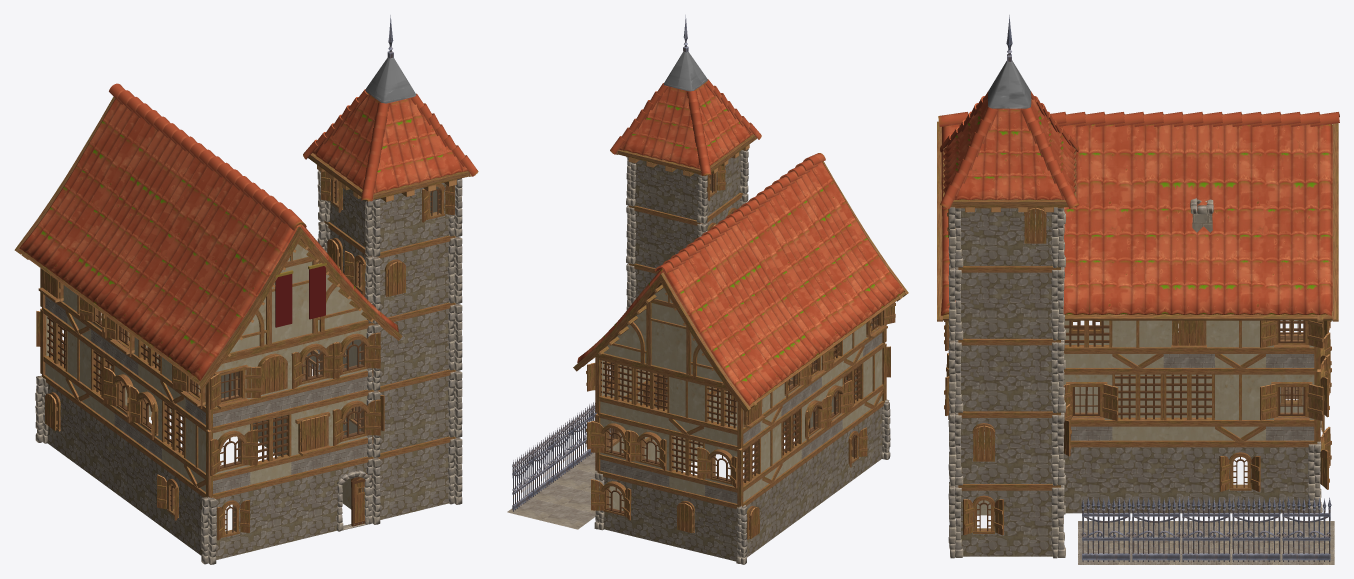
The model's file is town_hall_t3.glb.
The picture shows the model from 3 angles, left to right: view 1: azimuth 30°, elevation 25°; view 2: azimuth 150°, elevation 25°; view 3: azimuth 270°, elevation 25°; orthographic projection. The views are drawn at different scales.
Parts seen in each view (by area): view 1: Roof_RoundTiles_8x14.001, Roof_Tower_RoundTiles.001, Roof_Front_Brick8.008, Wall_UnevenBrick_Straight.076, Wall_UnevenBrick_Straight.077, Wall_UnevenBrick_Straight.109, Wall_UnevenBrick_Straight.104, Wall_UnevenBrick_Straight.092, Wall_UnevenBrick_Straight.098, Wall_UnevenBrick_Straight.090, Wall_Plaster_WoodGrid.054, Wall_UnevenBrick_Straight.096 (+61 smaller); view 2: Roof_RoundTiles_8x14.001, Roof_Tower_RoundTiles.001, Roof_Front_Brick8.009, Wall_UnevenBrick_Straight.078, Wall_Plaster_Straight.061, Wall_UnevenBrick_Straight.075, Wall_Plaster_WoodGrid.063, Wall_UnevenBrick_Straight.110, Wall_Plaster_WoodGrid.055, Wall_Plaster_WoodGrid.064, Wall_UnevenBrick_Window_Thin_Round.049, Wall_Plaster_WoodGrid.062 (+42 smaller); view 3: Roof_RoundTiles_8x14.001, Roof_Tower_RoundTiles.001, Wall_UnevenBrick_Straight.103, Wall_UnevenBrick_Straight.085, Wall_UnevenBrick_Straight.087, Wall_UnevenBrick_Straight.108, Wall_Plaster_Straight.060, Wall_UnevenBrick_Straight.083, Wall_UnevenBrick_Straight.106, Wall_UnevenBrick_Straight.095, Wall_UnevenBrick_Straight.099, Wall_UnevenBrick_Straight.111 (+59 smaller).
Part boxes in pixels (<box>): Roof_RoundTiles_8x14.001: <box>14,83,402,388</box>; Roof_Tower_RoundTiles.001: <box>303,15,478,201</box>; Roof_Front_Brick8.008: <box>224,240,377,361</box>; Wall_UnevenBrick_Straight.076: <box>250,475,292,551</box>; Wall_UnevenBrick_Straight.077: <box>291,465,333,541</box>; Wall_UnevenBrick_Straight.109: <box>413,235,456,310</box>; Wall_UnevenBrick_Straight.104: <box>414,302,456,377</box>; Wall_UnevenBrick_Straight.092: <box>414,436,456,511</box>; Wall_UnevenBrick_Straight.098: <box>414,369,456,444</box>; Wall_UnevenBrick_Straight.090: <box>377,445,415,519</box>; Wall_Plaster_WoodGrid.054: <box>250,408,292,484</box>; Wall_UnevenBrick_Straight.096: <box>377,378,415,452</box>; Roof_RoundTiles_8x14.001: <box>573,153,908,412</box>; Roof_Tower_RoundTiles.001: <box>610,15,761,176</box>; Roof_Front_Brick8.009: <box>595,285,727,389</box>; Wall_UnevenBrick_Straight.078: <box>633,479,669,544</box>; Wall_Plaster_Straight.061: <box>668,375,704,437</box>; Wall_UnevenBrick_Straight.075: <box>704,496,740,561</box>; Wall_Plaster_WoodGrid.063: <box>633,366,669,429</box>; Wall_UnevenBrick_Straight.110: <box>629,205,666,268</box>; Wall_Plaster_WoodGrid.055: <box>668,429,704,495</box>; Wall_Plaster_WoodGrid.064: <box>599,358,633,420</box>; Wall_UnevenBrick_Window_Thin_Round.049: <box>668,487,704,553</box>; Wall_Plaster_WoodGrid.062: <box>704,383,737,445</box>; Roof_RoundTiles_8x14.001: <box>937,112,1339,321</box>; Roof_Tower_RoundTiles.001: <box>940,15,1079,212</box>; Wall_UnevenBrick_Straight.103: <box>958,338,1009,411</box>; Wall_UnevenBrick_Straight.085: <box>1112,440,1163,513</box>; Wall_UnevenBrick_Straight.087: <box>1163,440,1214,513</box>; Wall_UnevenBrick_Straight.108: <box>958,266,1009,338</box>; Wall_Plaster_Straight.060: <box>1215,368,1265,441</box>; Wall_UnevenBrick_Straight.083: <box>1063,440,1112,513</box>; Wall_UnevenBrick_Straight.106: <box>1009,338,1060,411</box>; Wall_UnevenBrick_Straight.095: <box>1009,484,1060,556</box>; Wall_UnevenBrick_Straight.099: <box>1009,411,1060,483</box>; Wall_UnevenBrick_Straight.111: <box>1009,266,1060,338</box>.
Size of the model in its own units: 13.8 by 22.41 by 15.71.
Materials: 15 (10 with a texture image).
